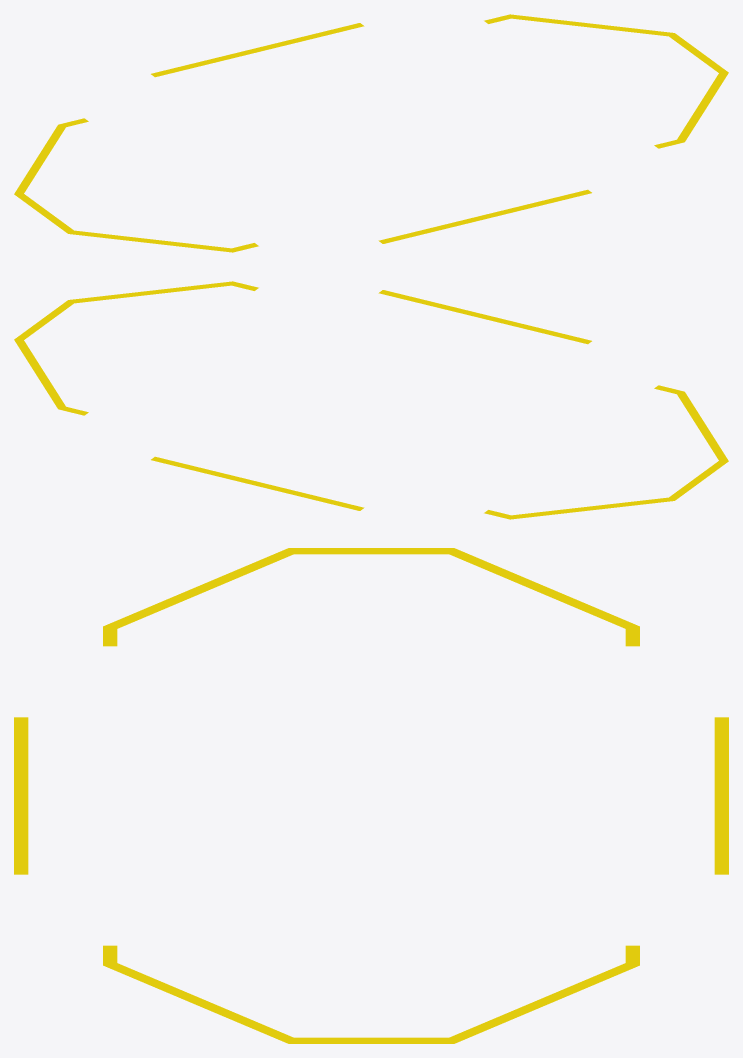
Rendered from mesh_Factory_Crown_FloorPattern.fbx.
The picture shows the model from 3 angles, top to bottom: view 1: azimuth 30°, elevation 25°; view 2: azimuth 150°, elevation 25°; view 3: azimuth 270°, elevation 25°; orthographic projection. The views are drawn at different scales.
Visible parts, largest first — view 1: CutedFloorBase.042; view 2: CutedFloorBase.042; view 3: CutedFloorBase.042.
Part boxes in pixels (bbox=[...]): CutedFloorBase.042: bbox=[14, 14, 728, 252]; CutedFloorBase.042: bbox=[14, 281, 728, 519]; CutedFloorBase.042: bbox=[14, 548, 728, 1043].
Bounding box in the file's own units: 44.56 × 0 × 27.16.
